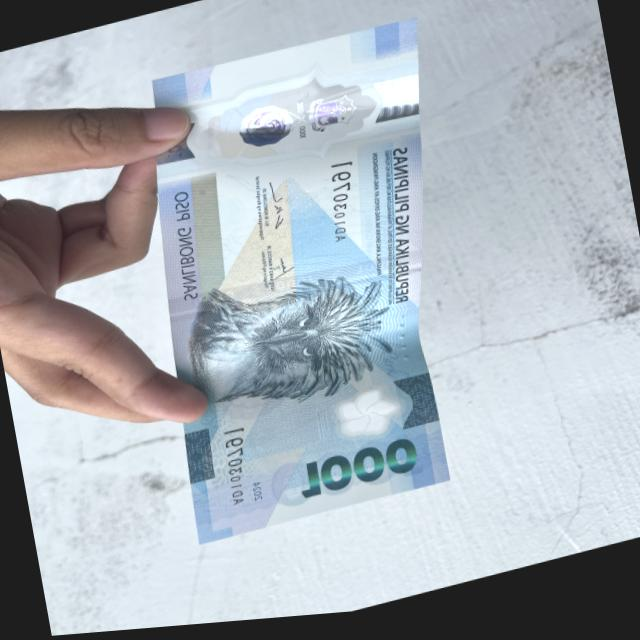clear_window: (199, 71, 370, 181)
eagle: (190, 254, 394, 437)
sampaguita: (308, 386, 408, 459)
security_thread: (172, 251, 422, 316)
serial_number: (210, 422, 262, 522), (314, 165, 366, 257)
value: (288, 433, 426, 516)
